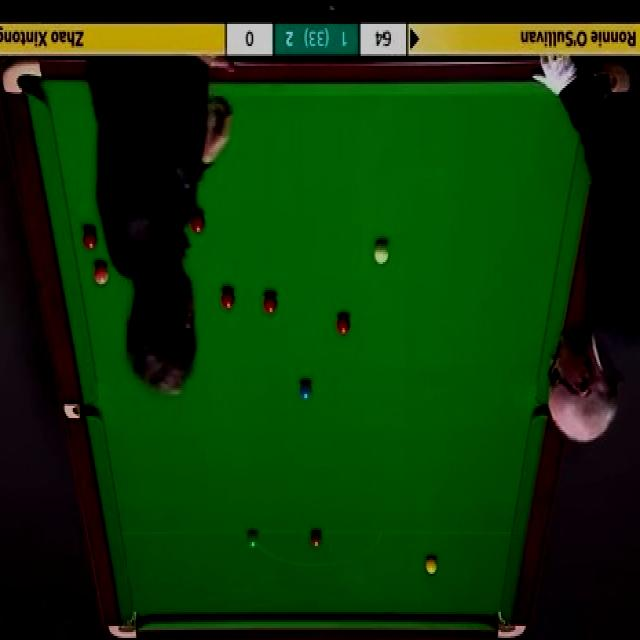blue-ball: (299, 378, 312, 404)
brown-ball: (309, 531, 323, 549)
green-ball: (245, 530, 260, 552)
pink-ball: (91, 264, 110, 284)
red-ball: (189, 208, 207, 233), (263, 290, 278, 316), (81, 226, 98, 248), (220, 288, 237, 310), (337, 316, 351, 337)
white-ball: (374, 242, 389, 266)
yellow-ball: (425, 555, 437, 574)
